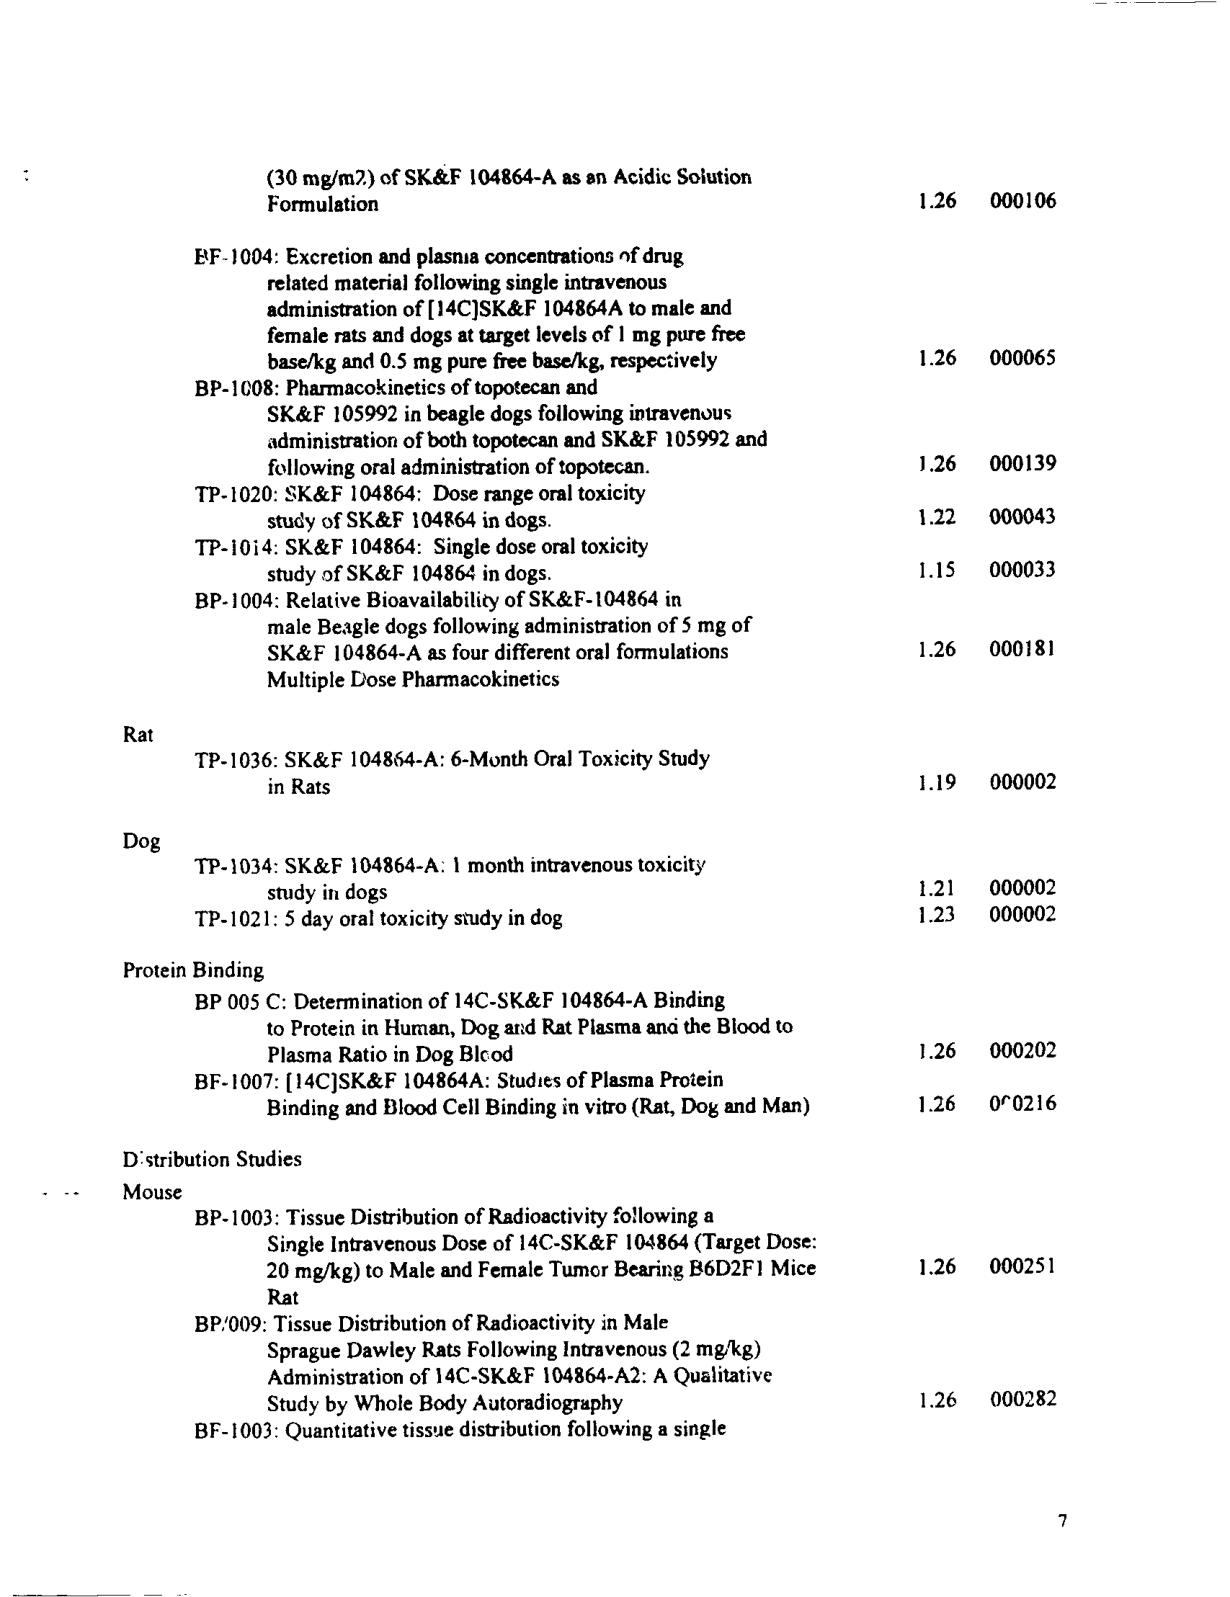nolines: (112, 158, 1061, 1443)
